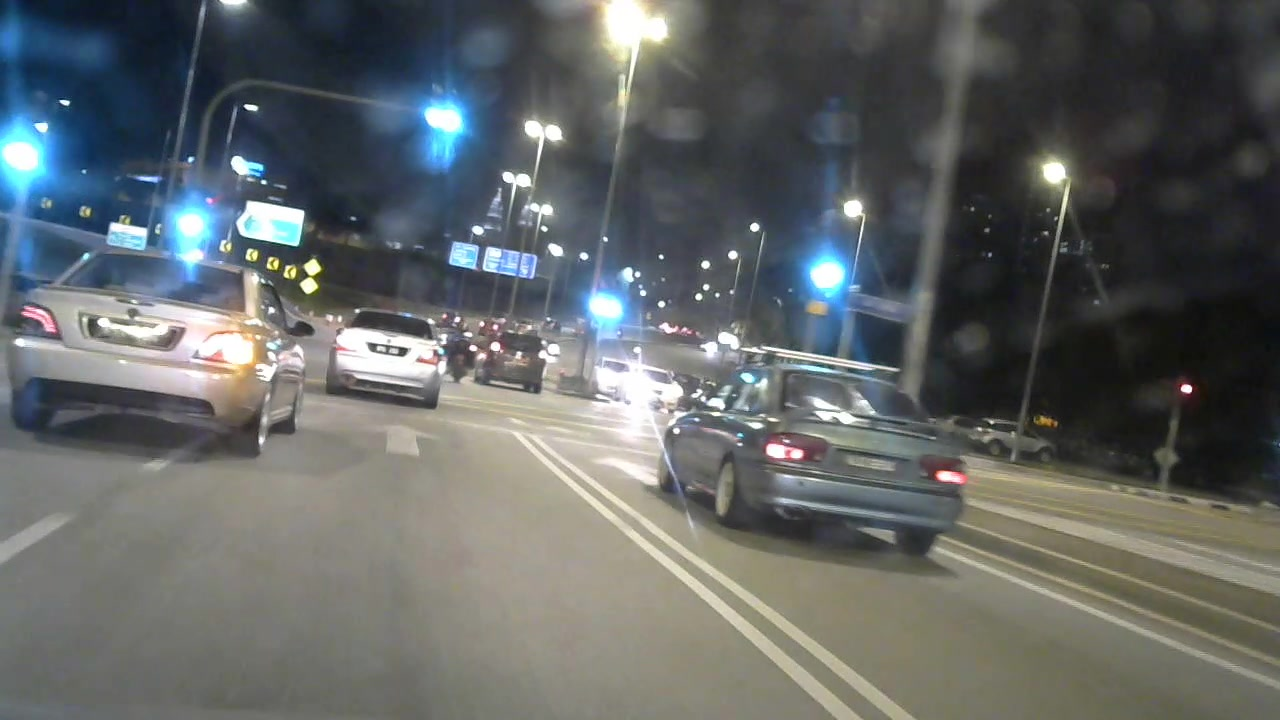Car: (650, 352, 990, 571), (10, 238, 318, 473), (327, 302, 458, 418), (477, 327, 549, 396), (968, 416, 1056, 465), (615, 357, 684, 408)
